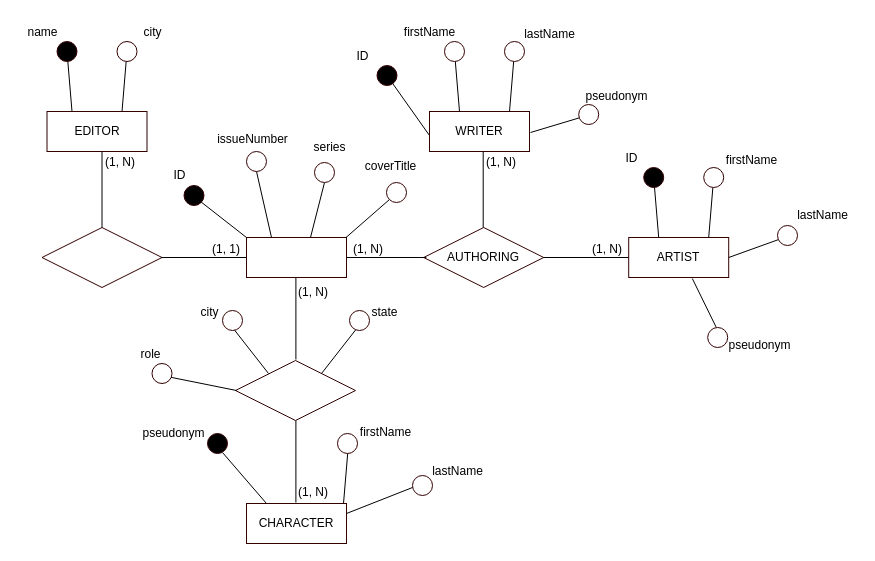
Some shapes in this 875 by 561 pixel diagram are drawn without their labels. Here are the shapes that lost their labels. From the top down, the centre of each, then its label:
pixel 101 257: PUBLISHING
pixel 296 257: COMIC BOOK
pixel 295 390: STARRING
